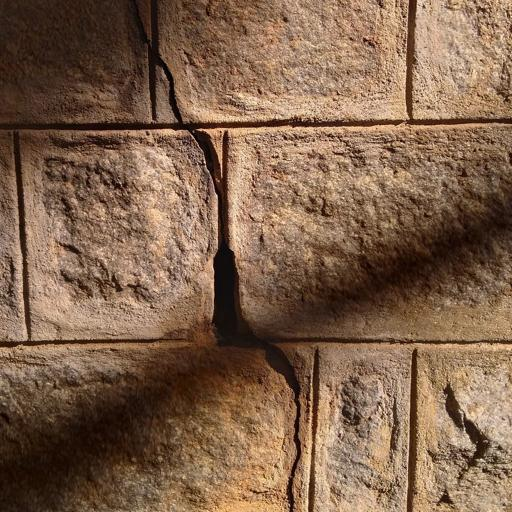major_crack: (119, 0, 315, 512)
